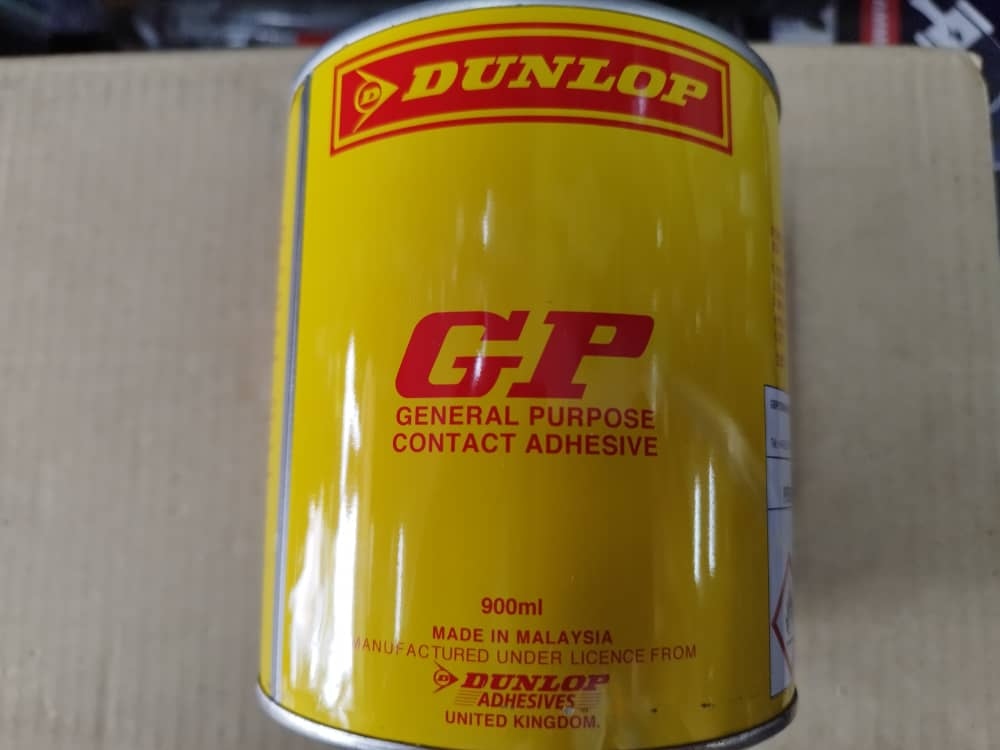sku_glue: (271, 13, 810, 739)
